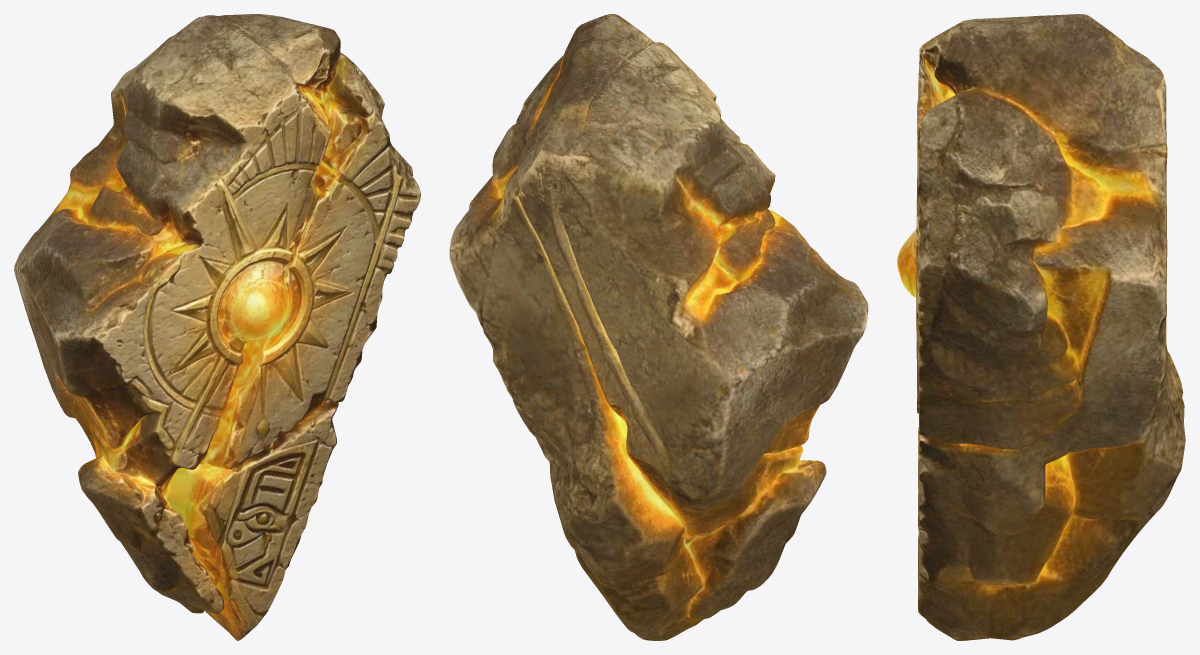
File: hero-sunstone.v4.glb
3 views of the same model, side by side, from view 1: azimuth 30°, elevation 25°; view 2: azimuth 150°, elevation 25°; view 3: azimuth 270°, elevation 25° (orthographic). The views are drawn at different scales.
Size of the model in its own units: 1.23 by 1.9 by 0.7581.
Materials: 1 (1 with a texture image).
